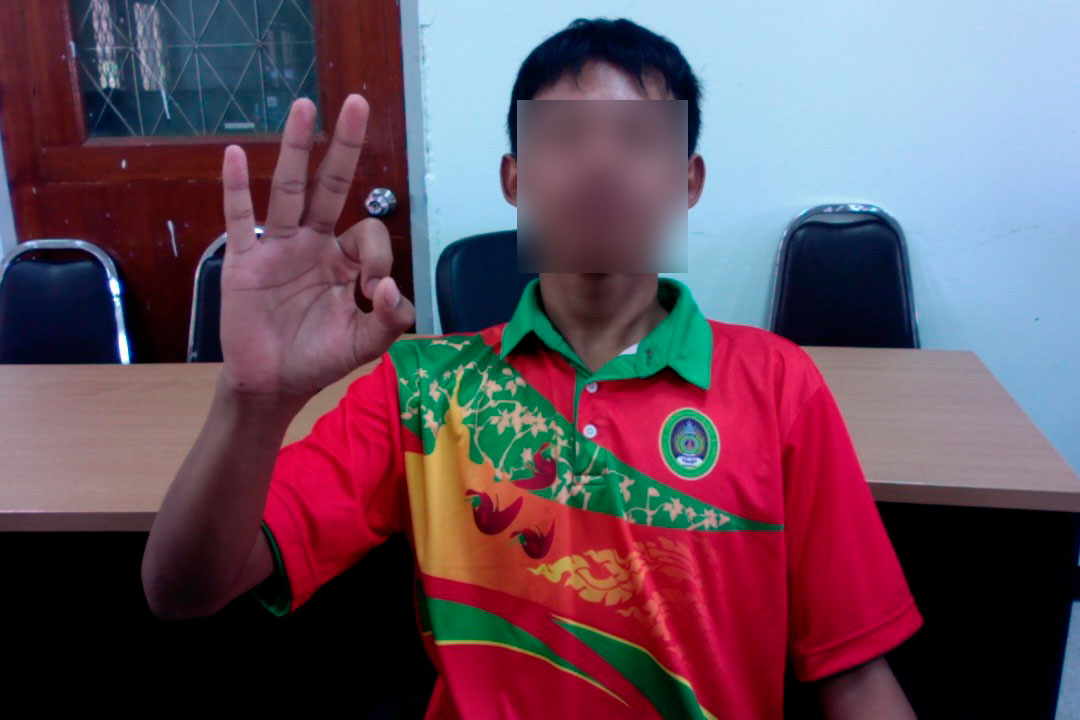for: (212, 78, 422, 405)
